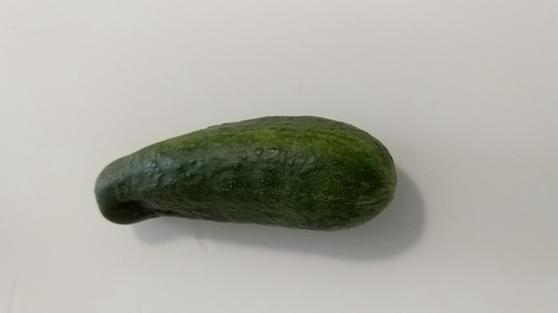cucumber: (90, 117, 396, 227)
